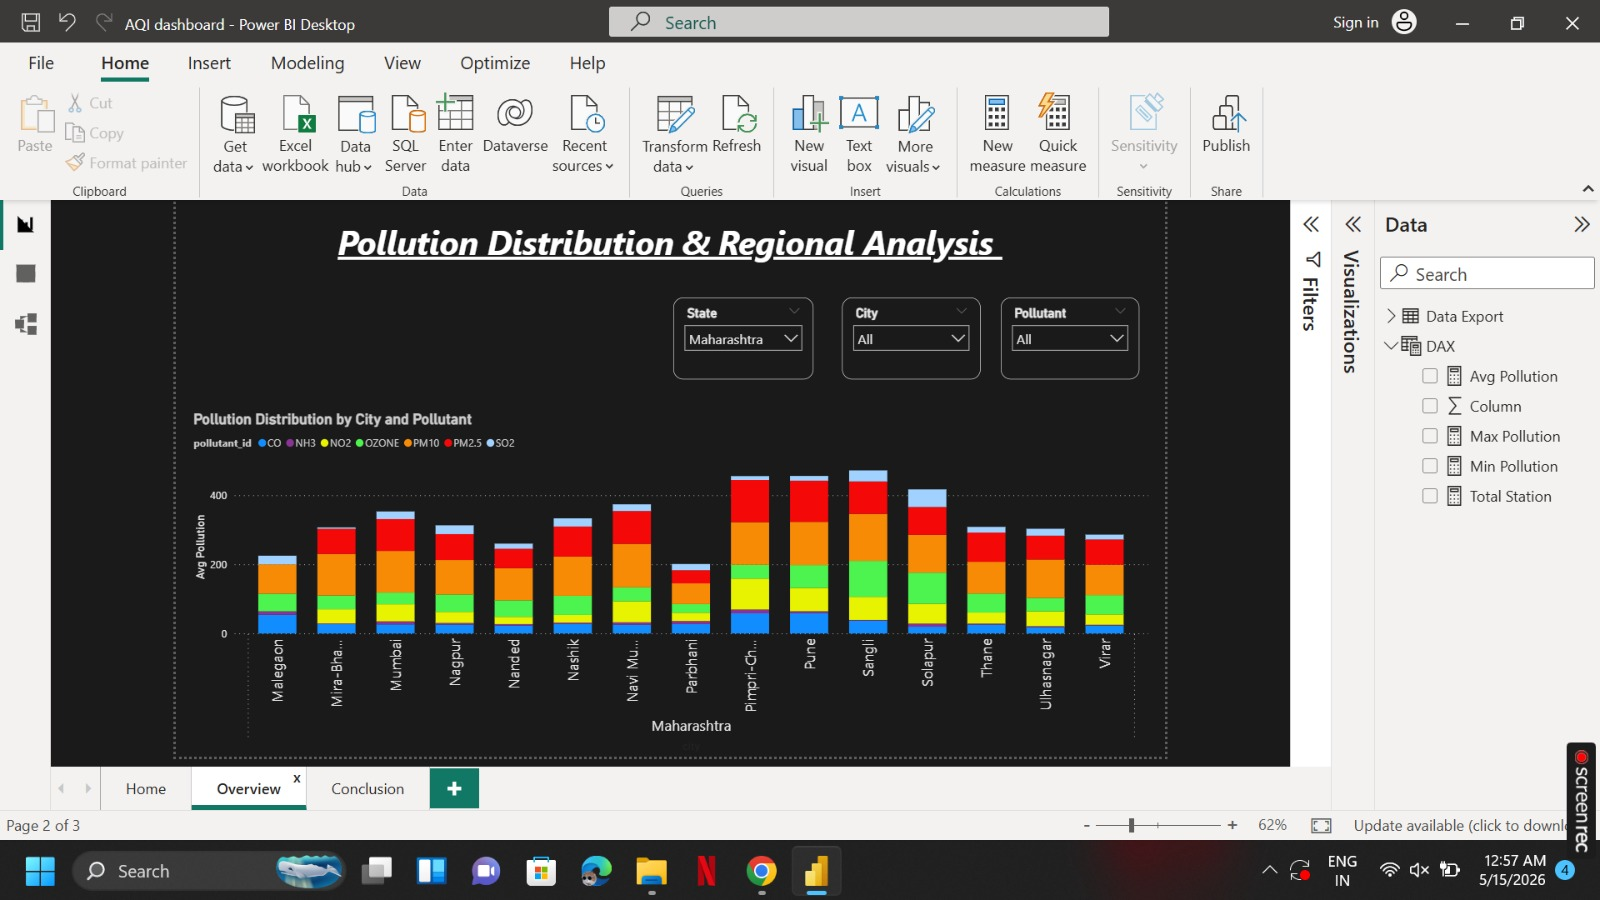

The page's visual inventory and layout, read from the dashboard file:
{"tool":"powerbi","page":{"name":"Page 2","canvas":[1280,720],"ordinal":1},"visuals":[{"type":"columnChart","title":"Pollution Distribution by City and Pollutant","fields":{"Category":["Data Export.state","Data Export.city"],"Y":["DAX.Avg Pollution"],"Series":["Data Export.pollutant_id"]},"box":[17,272.1,1245.4,447.9],"z":0},{"type":"slicer","fields":{"Values":["Data Export.pollutant_id"]},"box":[1067.7,126.6,179.5,105.8],"z":1000},{"type":"slicer","fields":{"Values":["Data Export.city"]},"box":[861.7,126.6,179.5,105.8],"z":2000},{"type":"slicer","fields":{"Values":["Data Export.state"]},"box":[644.4,126.6,181.4,105.8],"z":3000},{"type":"textbox","box":[0,18.9,1279.4,86.9],"z":4000}]}

Visuals, with their boxes on the page's 1280x720 design canvas (x1, y1, x2, y2). These are canvas units, not pixel positions in the 1600x900 screenshot, which may show the page scaled, cropped or inside an application window:
"Pollution Distribution by City and Pollutant" columnChart: region(17, 272, 1262, 720)
slicer - Data Export.pollutant_id: region(1068, 127, 1247, 232)
slicer - Data Export.city: region(862, 127, 1041, 232)
slicer - Data Export.state: region(644, 127, 826, 232)
textbox: region(0, 19, 1279, 106)
